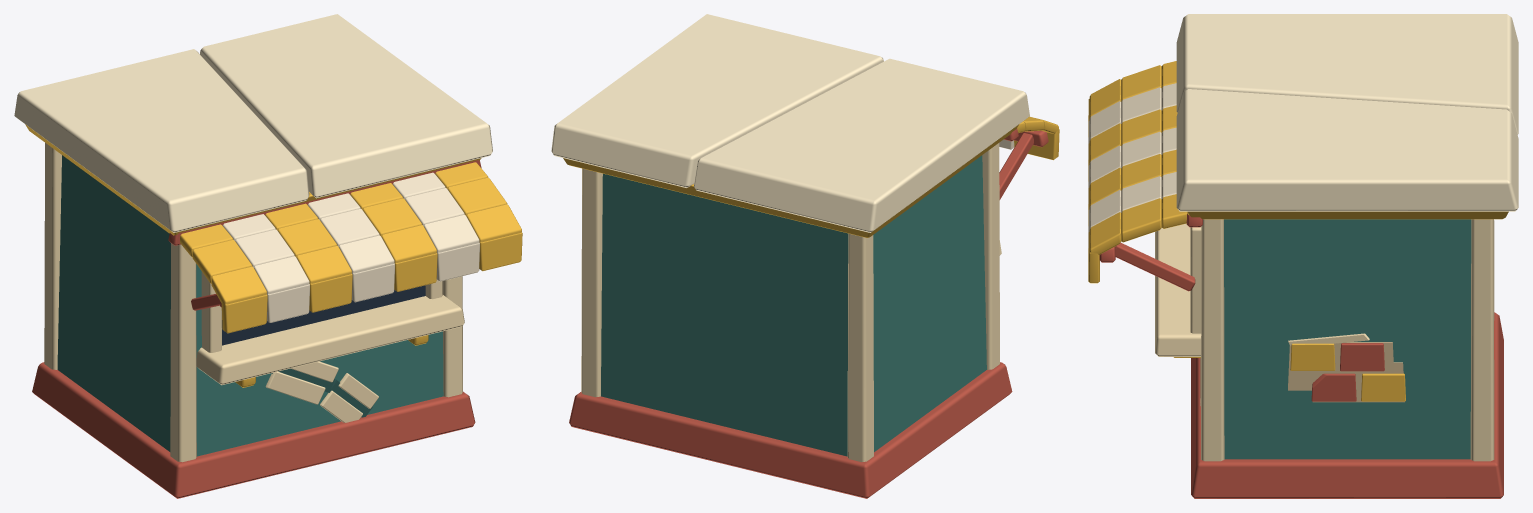
File: kiosk.glb
The picture shows the model from 3 angles, left to right: view 1: azimuth 30°, elevation 25°; view 2: azimuth 150°, elevation 25°; view 3: azimuth 270°, elevation 25°; orthographic projection. The views are drawn at different scales.
Visible parts, largest first — view 1: kiosk; view 2: kiosk; view 3: kiosk.
Boxes of the visible parts, box(x1,y1,x2,y2) form: kiosk: box(14, 14, 522, 498); kiosk: box(551, 14, 1059, 498); kiosk: box(1088, 14, 1518, 498).
Bounding box in the file's own units: 2.69 × 2.42 × 2.9.
